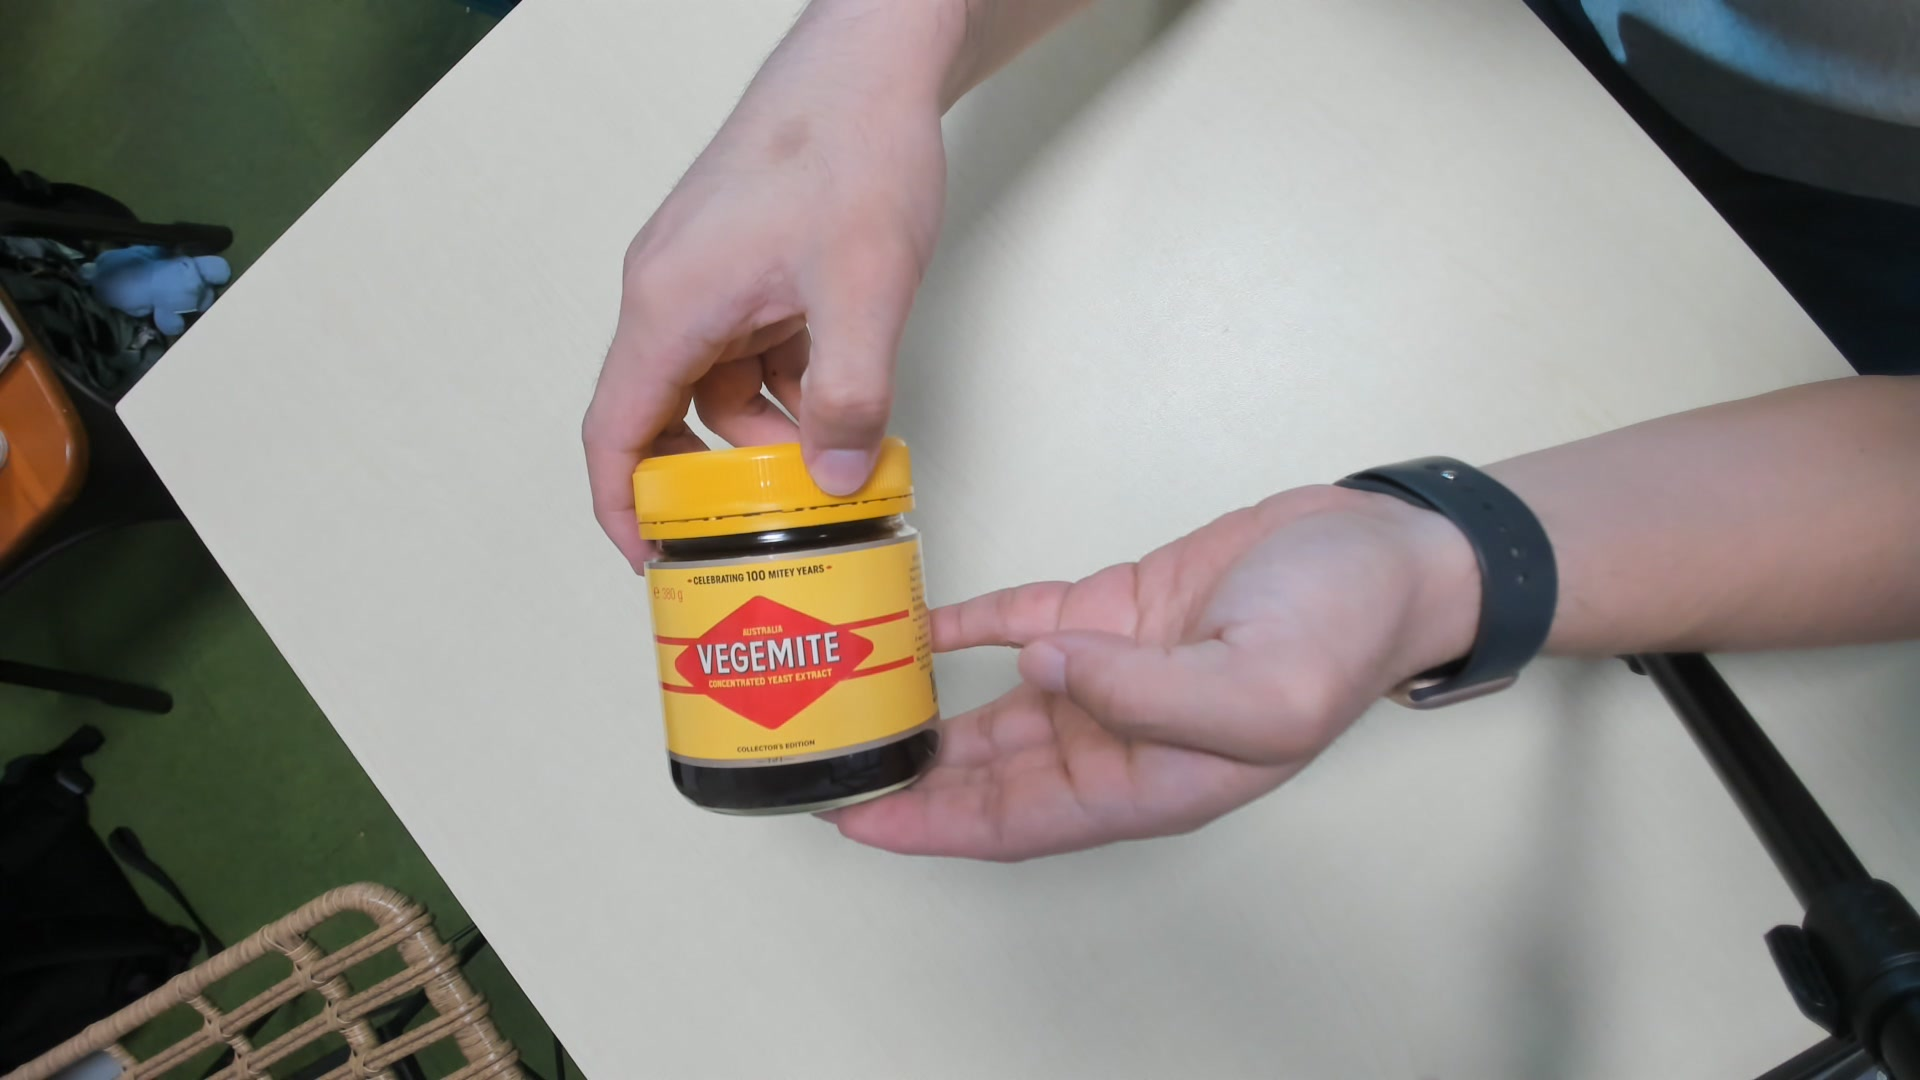OtherSauceDressing_300-399g_Halal_NonHealthy: (633, 439, 949, 832)
